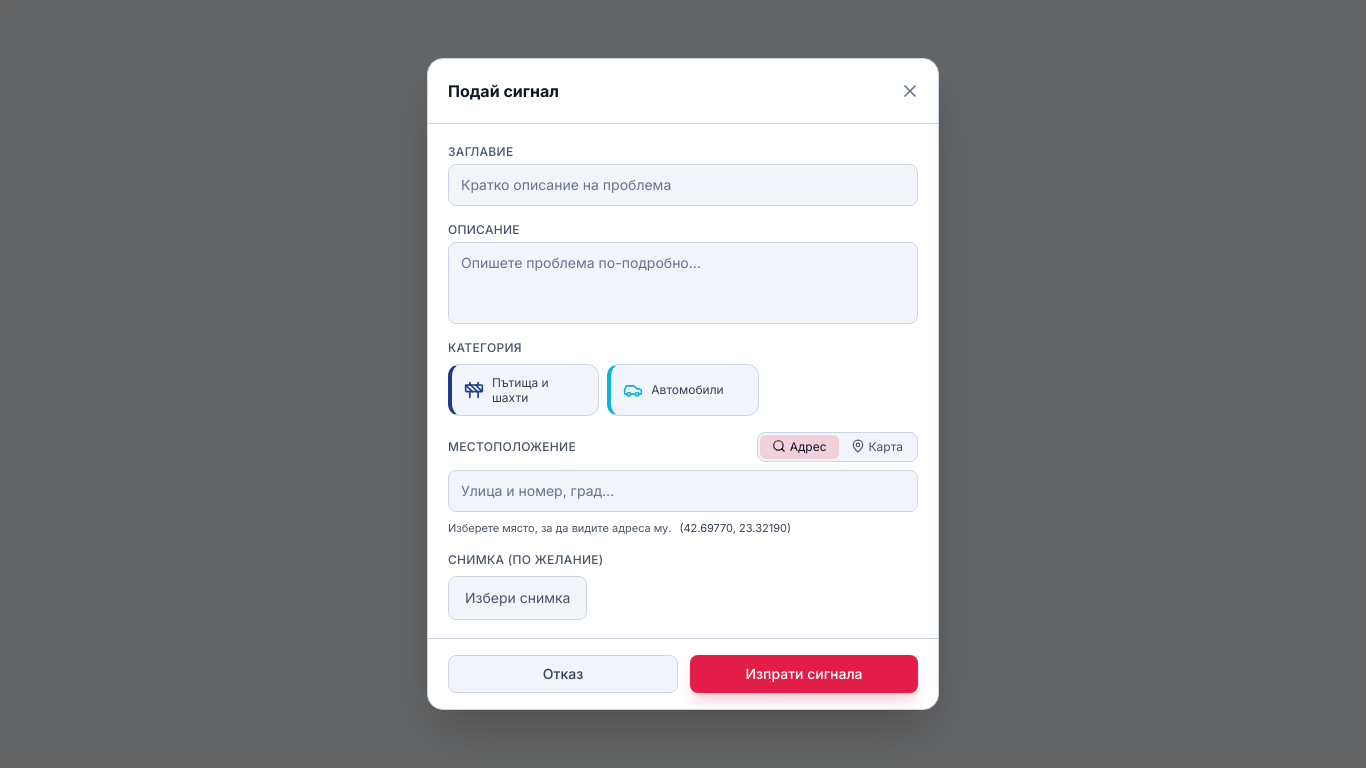
Scenario: CreateAlertModal › shows validation errors on empty submit
Click the button "Изпрати сигнала" at coordinates (804, 674), box [690, 655, 918, 693]
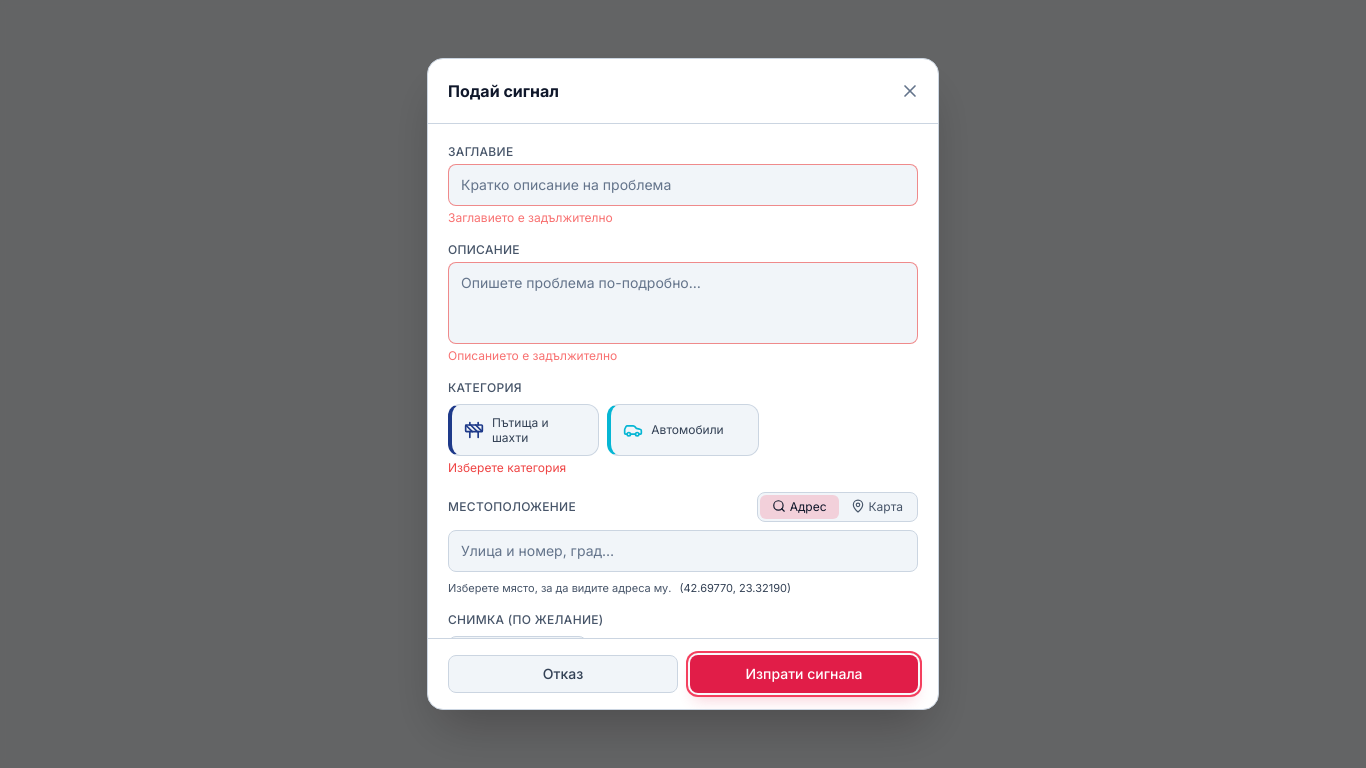
Expected: the text "Заглавието е задължително" is shown, [448, 210, 613, 225]
Expected: the text "Описанието е задължително" is shown, [448, 348, 617, 363]
Expected: the text "Изберете категория" is shown, [448, 460, 566, 475]
